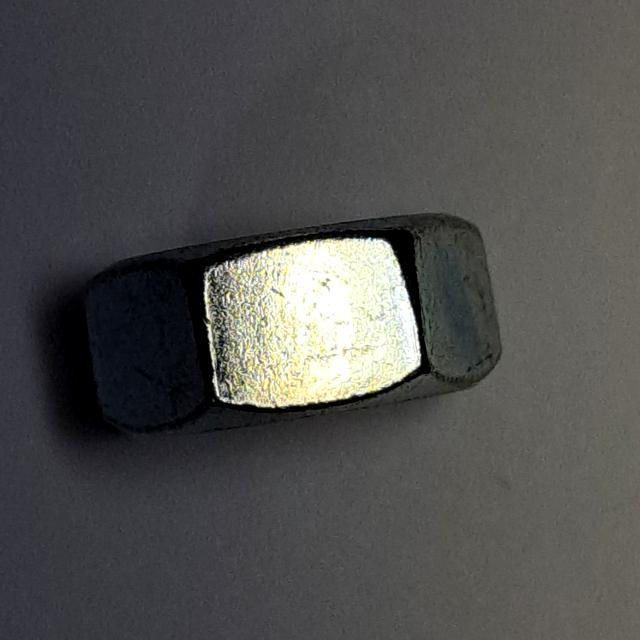Side_Excellent: (66, 203, 514, 461)
